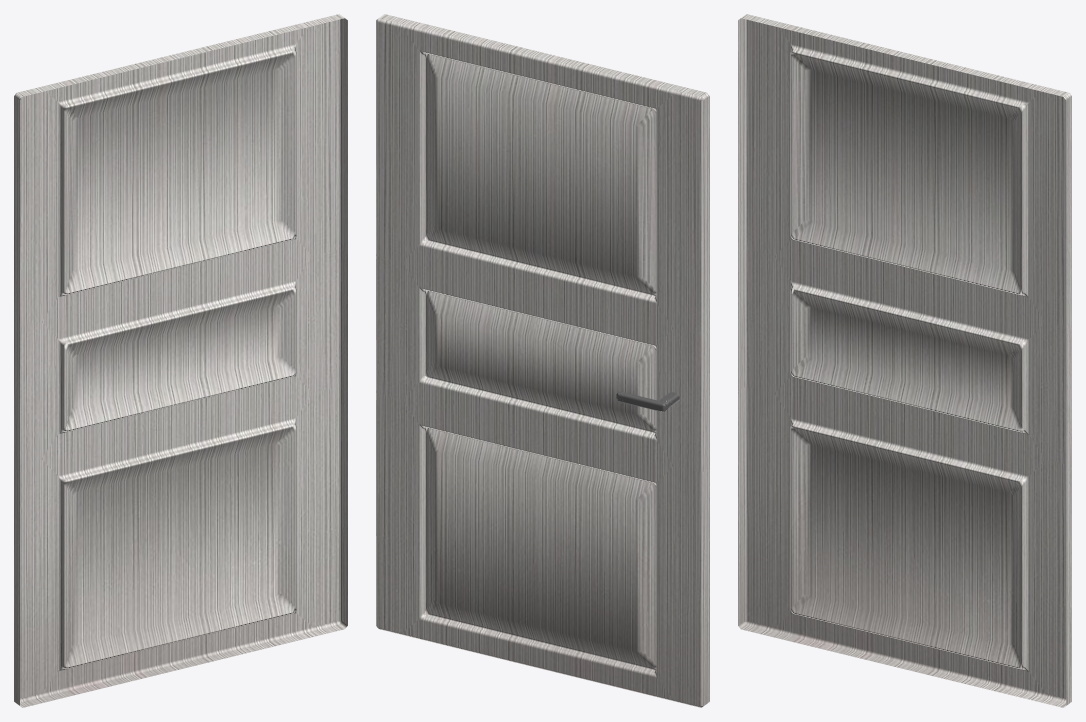
The picture shows the model from 3 angles, left to right: view 1: azimuth 30°, elevation 25°; view 2: azimuth 150°, elevation 25°; view 3: azimuth 330°, elevation 25°; orthographic projection.
Visible parts, largest first — view 1: Door V2; view 2: Door V2; view 3: Door V2.
Part boxes in pixels (x1,y1,x2,y2): Door V2: (14, 14, 347, 707); Door V2: (376, 14, 709, 707); Door V2: (738, 14, 1071, 707).
Bounding box in the file's own units: 1.19 × 2.12 × 0.1392.
Materials: 1 (1 with a texture image).
